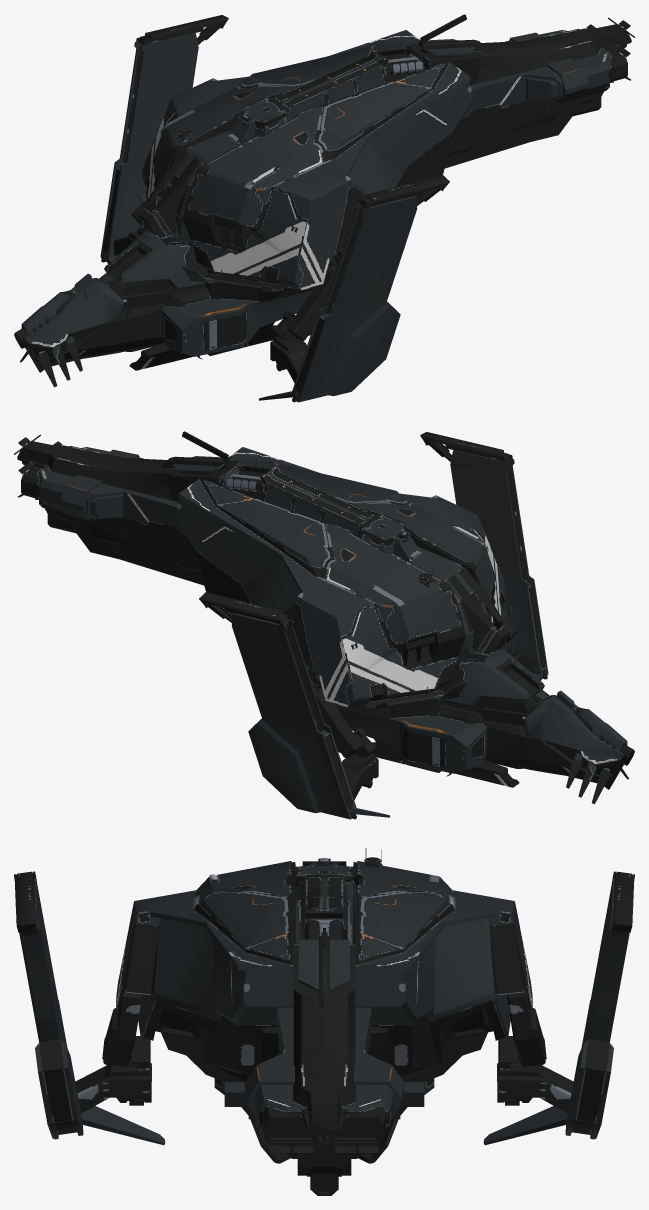
File: osprey.glb
3 renders of one model, top to bottom at view 1: azimuth 30°, elevation 25°; view 2: azimuth 150°, elevation 25°; view 3: azimuth 270°, elevation 25°, orthographic. The views are drawn at different scales.
Parts seen in each view (by area): view 1: Osprey; view 2: Osprey; view 3: Osprey.
Boxes of the visible parts, x1,y1,x2,y2 form: Osprey: [14, 14, 634, 402]; Osprey: [14, 431, 634, 819]; Osprey: [14, 848, 634, 1195].
Size of the model in its own units: 368 by 160 by 239.
1 material, 1 textured.
